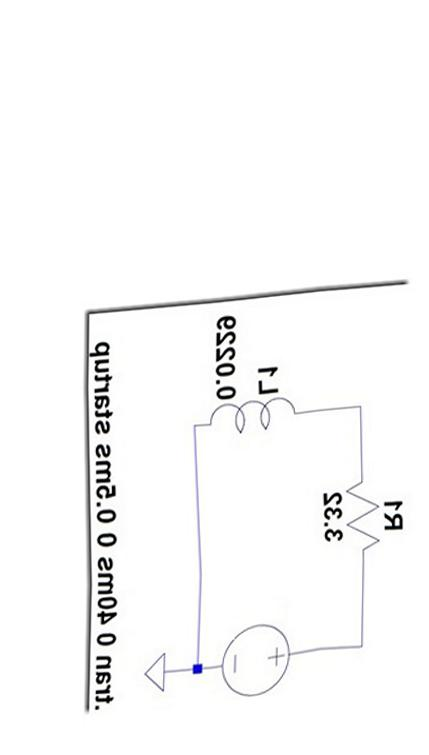Battery: (207, 604, 312, 709)
